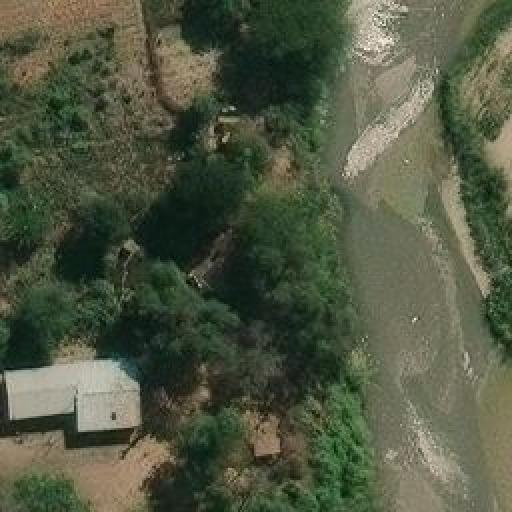manzanas: (4, 352, 147, 436)
